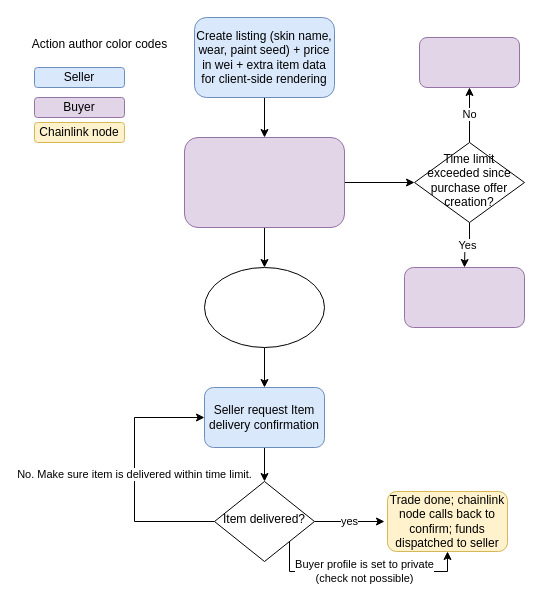
The diagram is 542 pixels wide and 602 high, and some of its shapes have lost their labels. Here are the shapes that lost their labels. From the top down, the box of each, then its label:
(418, 36, 520, 88): No action possible for buyer.
(184, 136, 344, 228): Create purchase offer (buyer trade URL) + send payment to contract
(204, 266, 324, 348): Seller delivers item through Steam Trade offer, buyer accepts
(404, 266, 524, 328): Buyer can delete purchase offer and get payment refunded.
